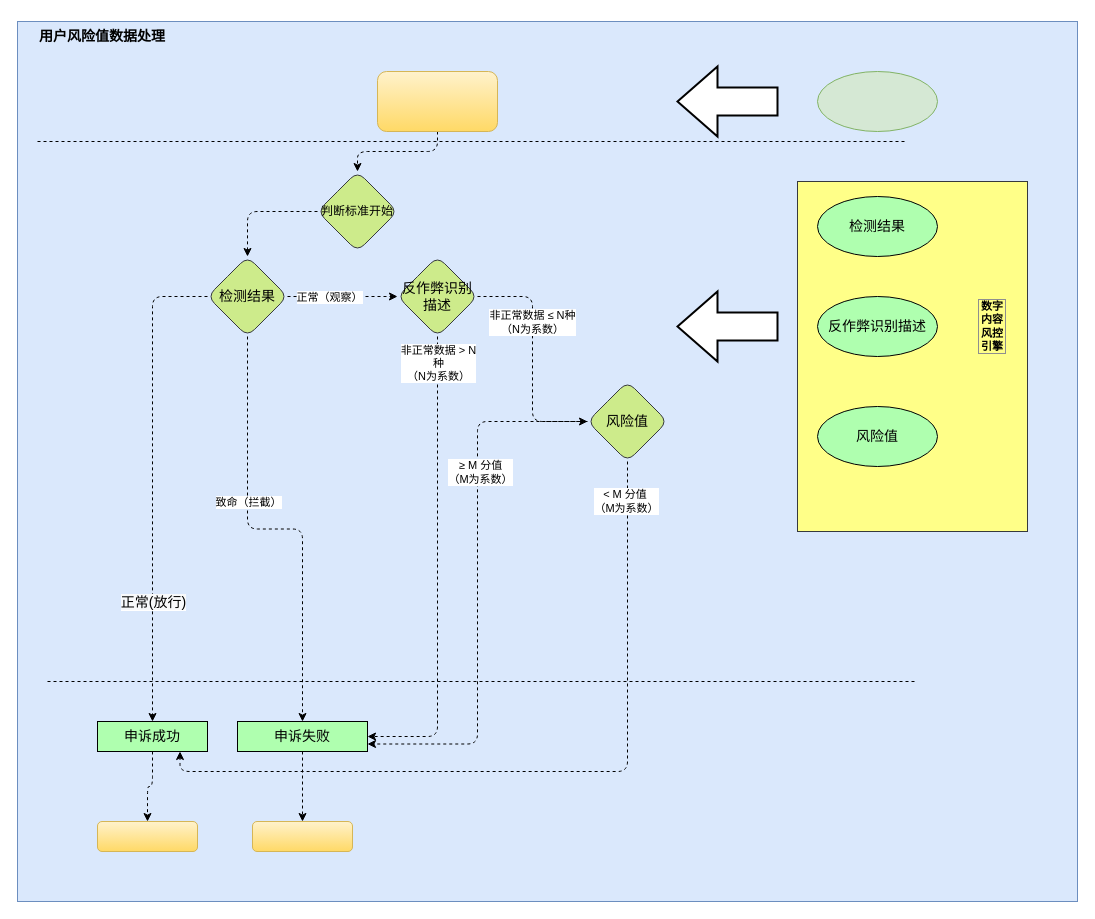
Some shapes in this 1095 by 919 pixel diagram are drawn without their labels. The centre of each missing label's shape, as x and y in pixels:
不撤销: (302,836)
撤销: (147,836)
用户申诉: (437,101)
被处罚账号: (877,101)
